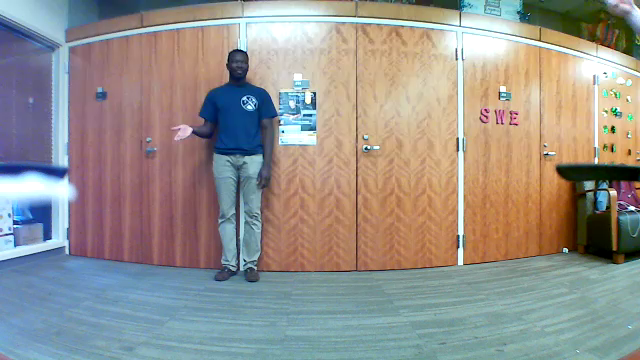land: (166, 119, 199, 143)
